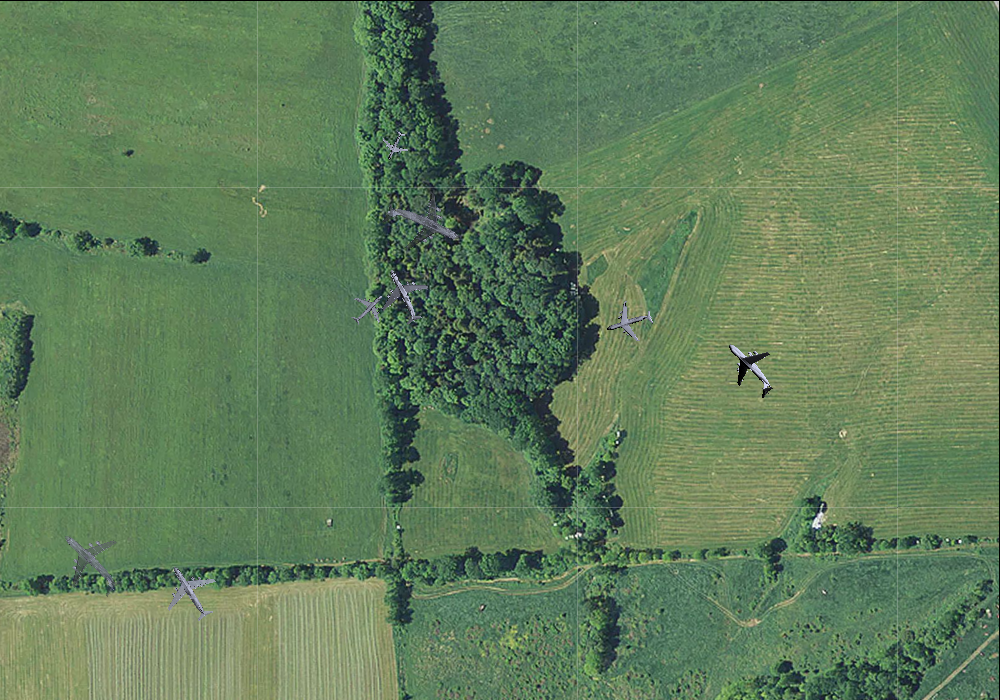plane: (39, 512, 140, 613), (371, 175, 472, 273), (708, 327, 791, 410), (150, 552, 229, 633), (365, 258, 440, 334), (600, 294, 659, 351), (342, 282, 394, 334), (376, 126, 414, 165)
